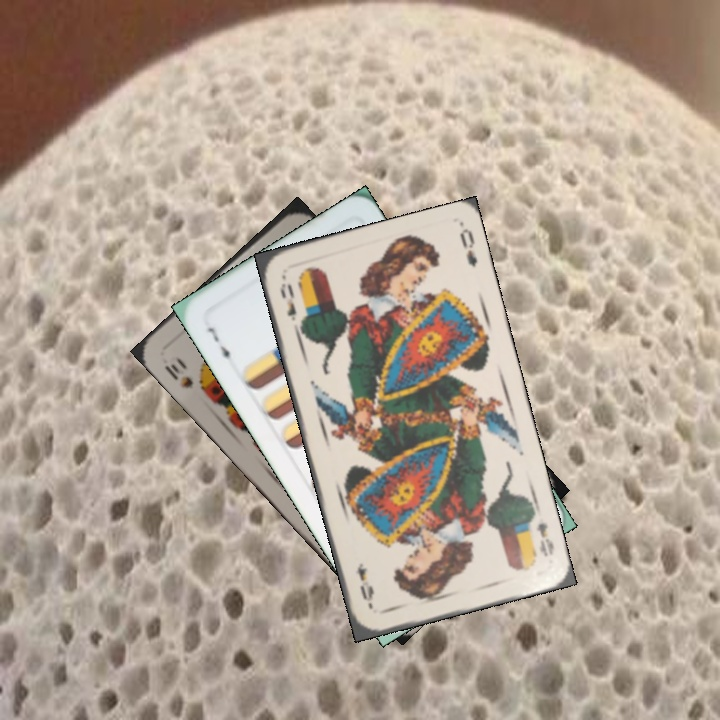E7: (203, 323, 234, 368)
EO: (276, 278, 299, 324), (532, 518, 557, 560)
S10: (160, 351, 196, 391)
